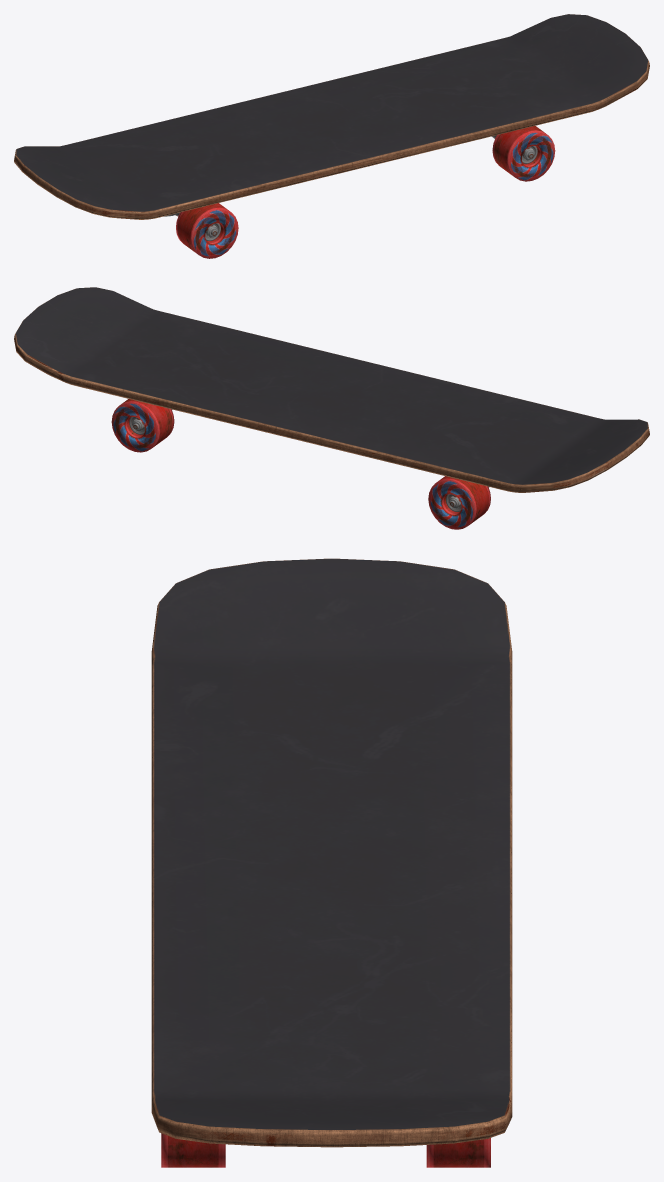
Rendered from skateboard.glb.
The picture shows the model from 3 angles, top to bottom: view 1: azimuth 30°, elevation 25°; view 2: azimuth 150°, elevation 25°; view 3: azimuth 270°, elevation 25°; orthographic projection. The views are drawn at different scales.
Visible parts, largest first — view 1: Board1, pPipe13 (×2); view 2: Board1, pPipe9 (×2); view 3: Board1, pPipe13, pPipe9.
Boxes of the visible parts, x1,y1,x2,y2 form: Board1: (14, 14, 649, 219); pPipe13 (×2): (176, 126, 555, 258); Board1: (14, 287, 649, 492); pPipe9 (×2): (111, 399, 490, 529); Board1: (151, 558, 512, 1147); pPipe13: (161, 1133, 225, 1167); pPipe9: (426, 1138, 490, 1167).
Bounding box in the file's own units: 9.6 × 1.29 × 2.54.
1 material, 1 textured.
